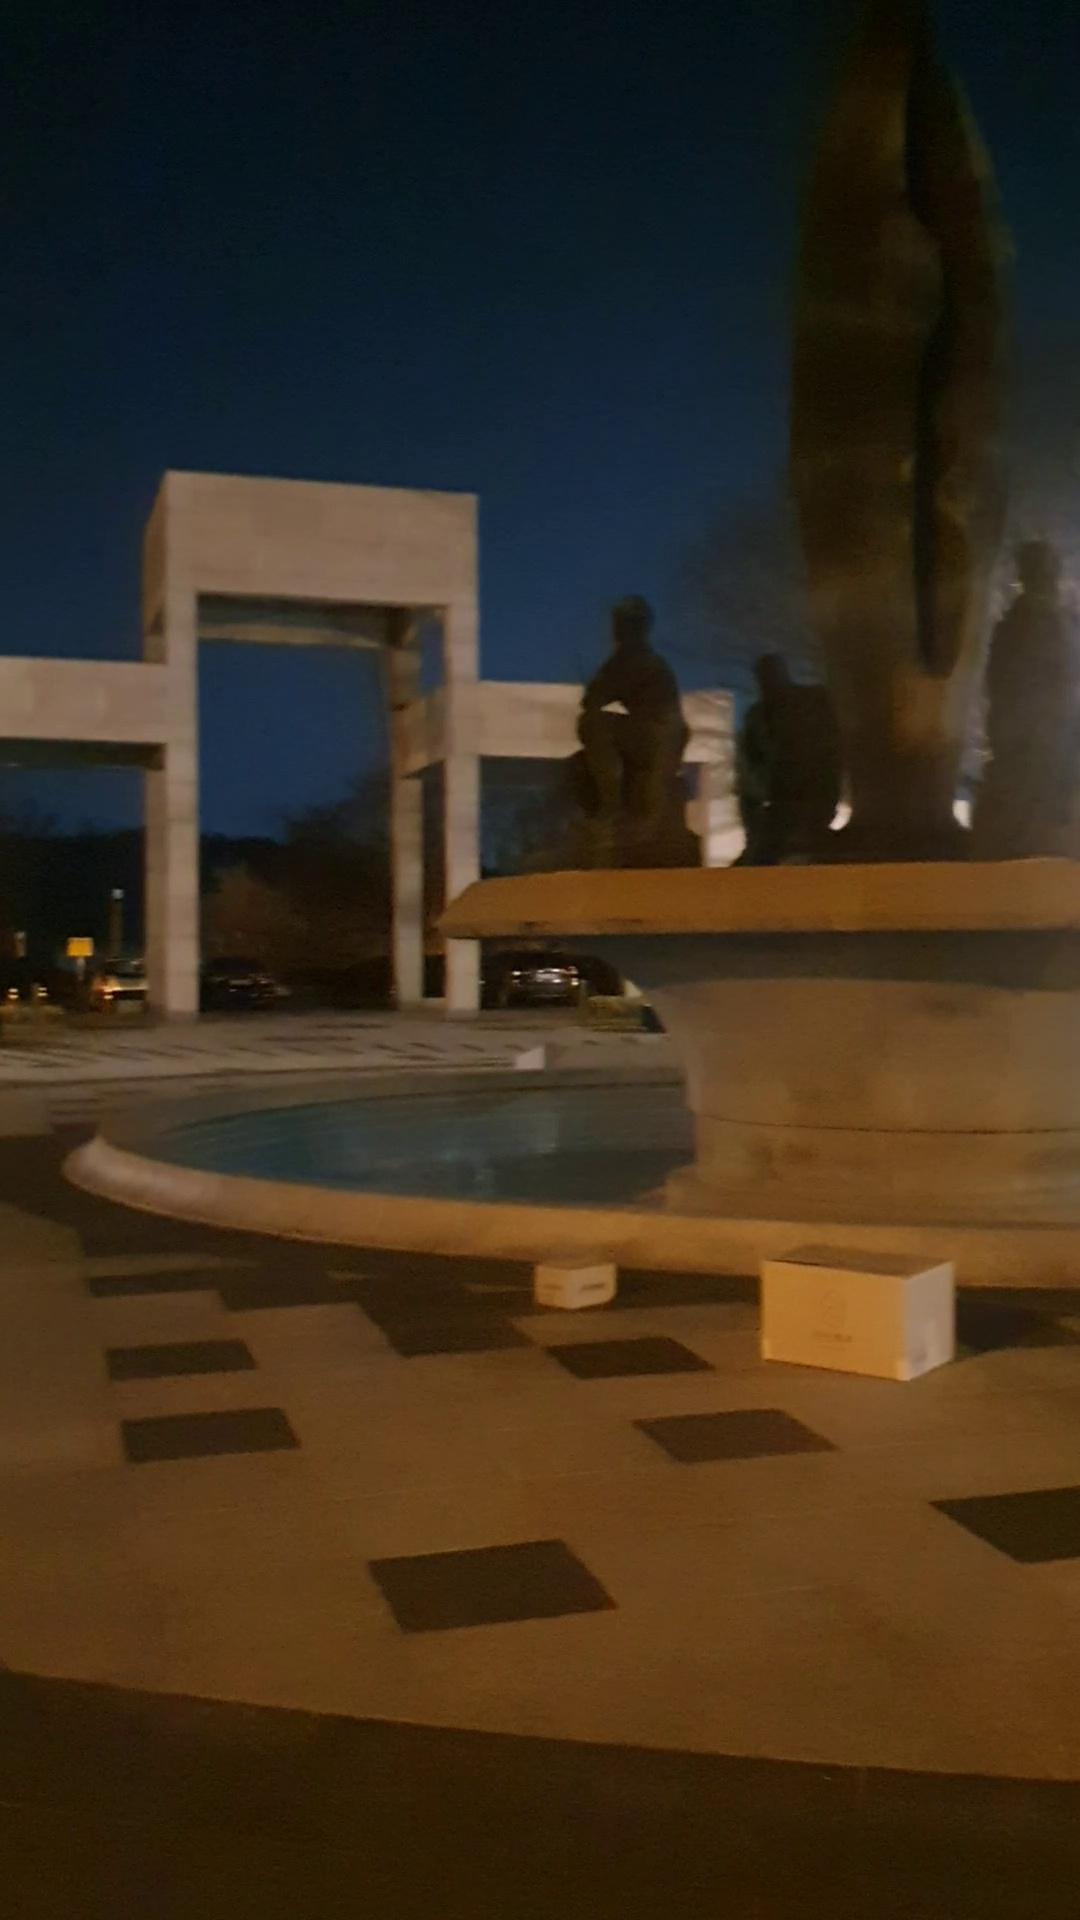Box: (748, 1230, 969, 1396), (526, 1238, 636, 1328)
